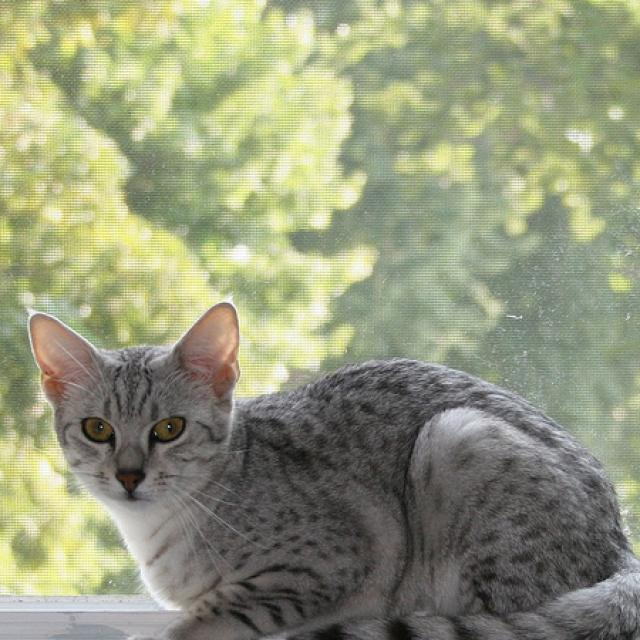Egyptian Mau: (23, 297, 640, 640)
